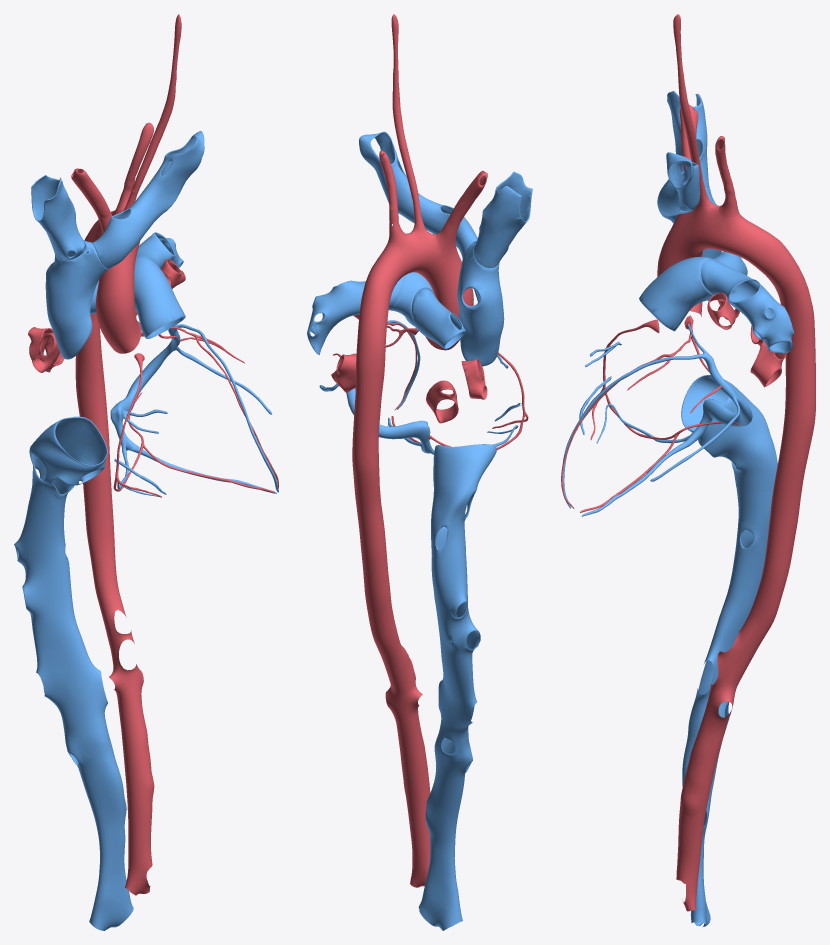
The model's file is blood_vasculature_heart.glb.
3 views of the same model, side by side, from view 1: azimuth 30°, elevation 25°; view 2: azimuth 150°, elevation 25°; view 3: azimuth 270°, elevation 25° (orthographic). The views are drawn at different scales.
Visible parts, largest first — view 1: VH_M_pulmonary_artery_L, VH_M_aortic_arch, VH_M_coronary_sinus; view 2: VH_M_pulmonary_artery_L, VH_M_aortic_arch, VH_M_coronary_sinus; view 3: VH_M_aortic_arch, VH_M_pulmonary_artery_L, VH_M_coronary_sinus.
Part boxes in pixels (left/top/right/bottom): VH_M_pulmonary_artery_L: left=14, top=131, right=278, bottom=930; VH_M_aortic_arch: left=28, top=14, right=278, bottom=895; VH_M_coronary_sinus: left=110, top=324, right=272, bottom=450; VH_M_pulmonary_artery_L: left=307, top=131, right=532, bottom=930; VH_M_aortic_arch: left=331, top=14, right=528, bottom=887; VH_M_coronary_sinus: left=319, top=383, right=434, bottom=454; VH_M_aortic_arch: left=561, top=14, right=815, bottom=911; VH_M_pulmonary_artery_L: left=562, top=91, right=793, bottom=927; VH_M_coronary_sinus: left=650, top=348, right=752, bottom=481.
Bounding box in the file's own units: 0.1302 × 0.5142 × 0.1257.
